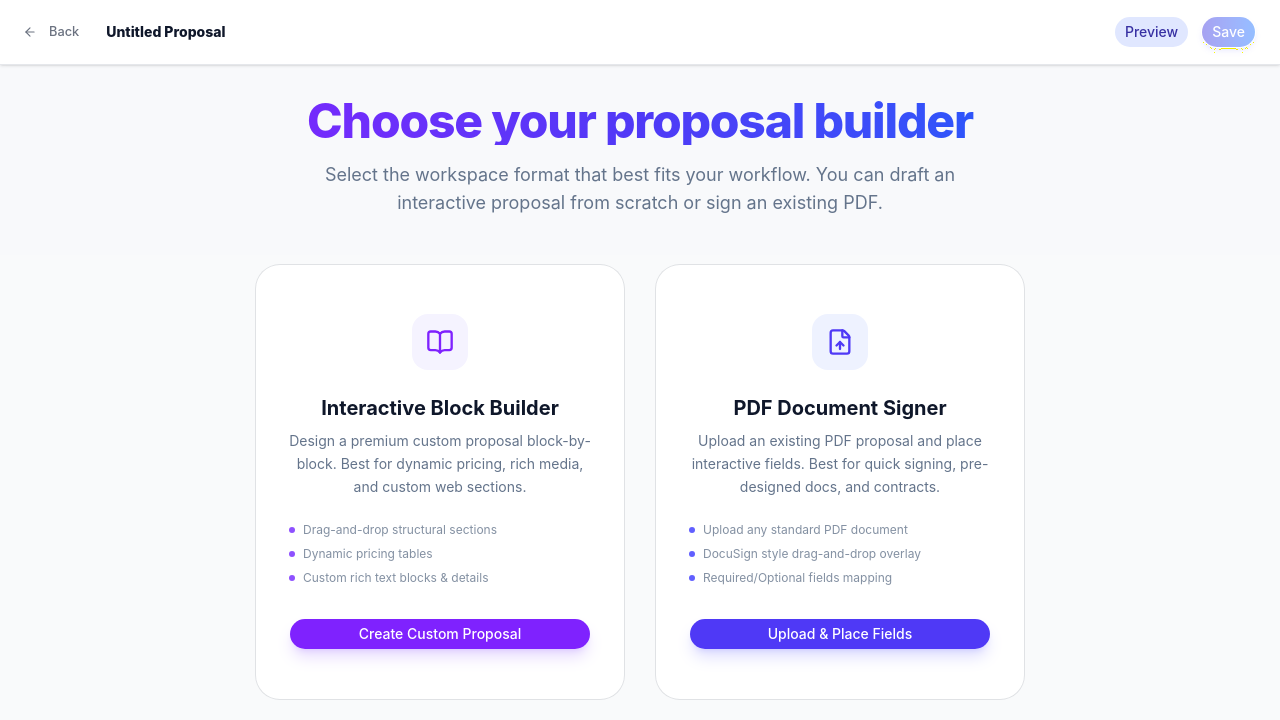
ProposalEditorPage › switches to block builder workspace when chosen
The width and height of the screenshot is (1280, 720).
Click the heading "Interactive Block Builder".
click(440, 408)  # box [321,396,559,420]
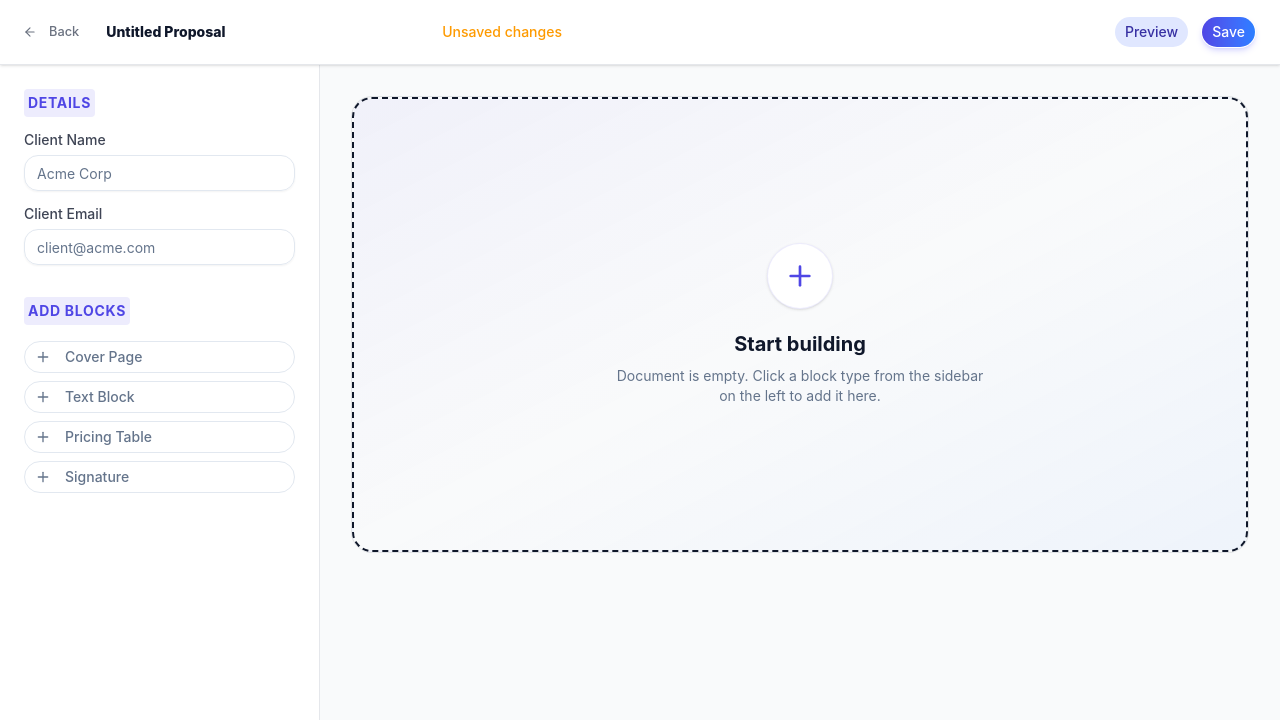
Expected: the text "Client Name" is shown, [24,131,106,148]
Expected: the text "Client Email" is shown, [24,205,102,222]
Expected: the text "Add Blocks" is shown, [24,297,130,325]
